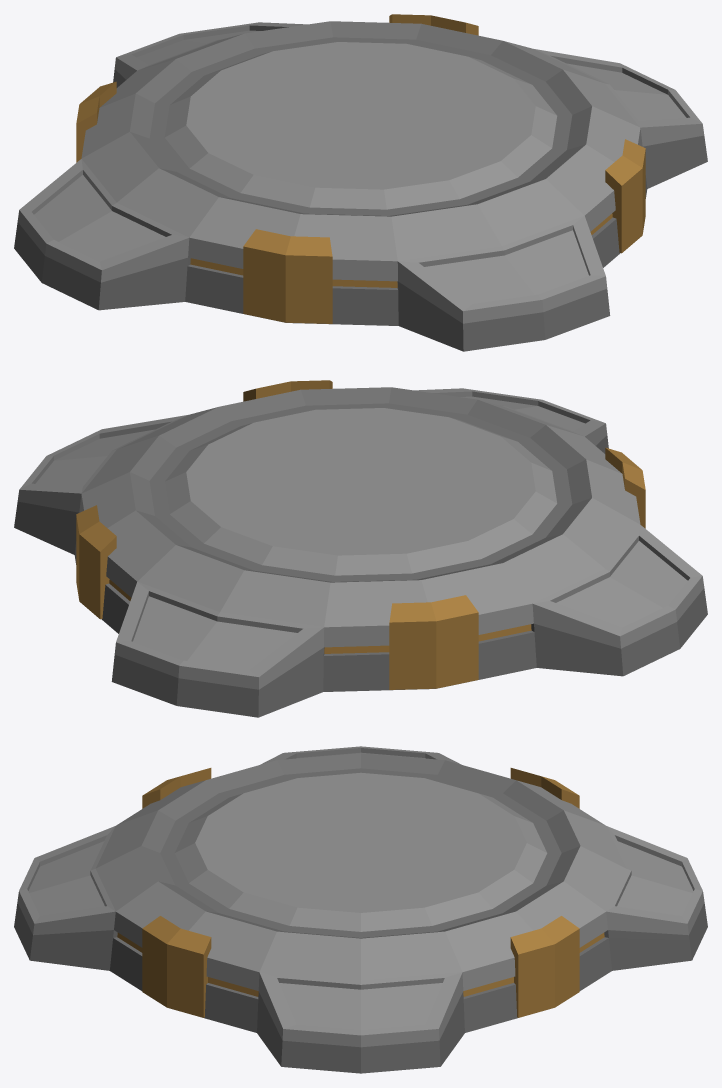
3 renders of one model, top to bottom at view 1: azimuth 30°, elevation 25°; view 2: azimuth 150°, elevation 25°; view 3: azimuth 270°, elevation 25°, orthographic. The views are drawn at different scales.
Parts seen in each view (by area): view 1: Props_Base; view 2: Props_Base; view 3: Props_Base.
Boxes of the visible parts, bbox=[...] form: Props_Base: bbox=[14, 14, 707, 351]; Props_Base: bbox=[14, 380, 707, 717]; Props_Base: bbox=[14, 746, 707, 1073].
Bounding box in the file's own units: 2.4 × 0.3203 × 2.4.
